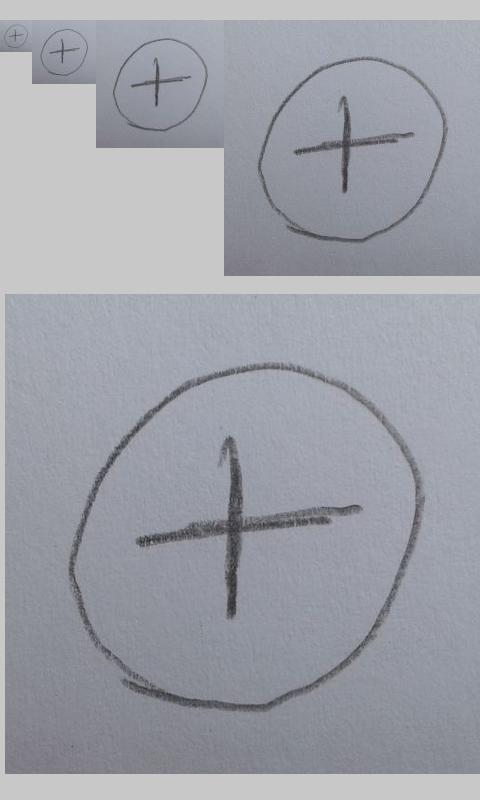button: (67, 361, 427, 712), (257, 54, 447, 245), (112, 37, 208, 132), (39, 28, 90, 76), (3, 23, 29, 48)
